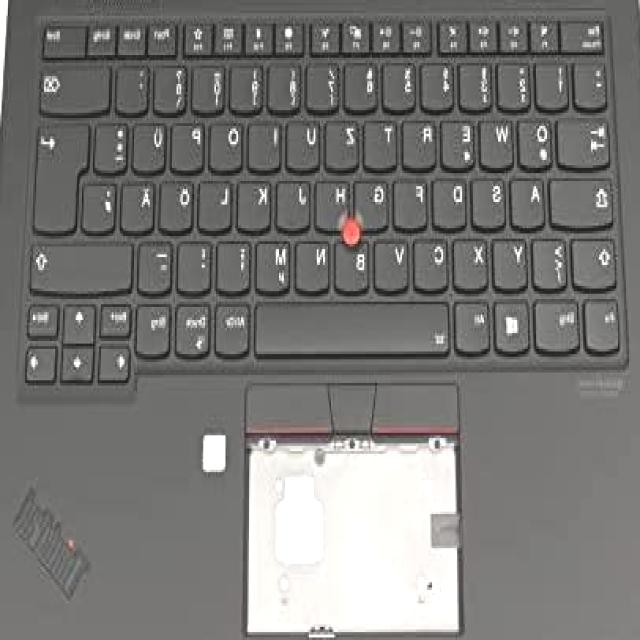0: (194, 63, 228, 110)
1: (538, 58, 571, 108)
2: (500, 58, 534, 108)
3: (462, 58, 495, 108)
4: (423, 58, 457, 108)
5: (385, 58, 419, 110)
6: (347, 60, 380, 110)
7: (308, 60, 342, 110)
8: (270, 60, 304, 110)
9: (232, 58, 266, 110)
a: (513, 174, 547, 226)
accent: (119, 63, 152, 113)
ae: (124, 179, 158, 231)
alt-left: (456, 296, 492, 354)
altgr-right: (216, 297, 252, 357)
b: (338, 236, 372, 291)
c: (417, 234, 451, 289)
caret: (577, 61, 610, 105)
comma: (220, 236, 254, 291)
d: (436, 176, 470, 226)
del: (41, 63, 112, 113)
e: (443, 116, 479, 166)
enter: (37, 118, 93, 234)
f: (396, 176, 430, 226)
g: (358, 176, 391, 228)
h: (317, 176, 351, 228)
hash: (85, 179, 118, 231)
i: (251, 118, 284, 168)
j: (280, 176, 314, 228)
k: (240, 176, 274, 228)
keyboard: (16, 8, 631, 404)
l: (201, 176, 235, 228)
less: (535, 234, 571, 289)
m: (257, 236, 293, 291)
minus: (139, 236, 175, 291)
n: (299, 236, 333, 291)
o: (212, 118, 246, 168)
oe: (161, 176, 195, 231)
p: (174, 119, 208, 171)
plus: (97, 119, 131, 171)
point: (180, 239, 214, 291)
q: (522, 116, 556, 166)
r: (404, 116, 440, 168)
s: (475, 174, 509, 226)
shift-left: (574, 237, 620, 289)
shift-lock: (551, 176, 617, 231)
shift-right: (32, 239, 136, 291)
space: (256, 296, 453, 354)
ss: (156, 63, 189, 110)
strg-left: (533, 296, 583, 354)
strg-right: (136, 299, 174, 357)
t: (366, 116, 400, 168)
tab: (560, 116, 614, 166)
u: (289, 116, 323, 168)
ue: (135, 119, 169, 171)
v: (377, 234, 411, 289)
w: (483, 116, 517, 166)
x: (456, 234, 492, 289)
y: (496, 234, 530, 289)
z: (328, 116, 362, 168)
